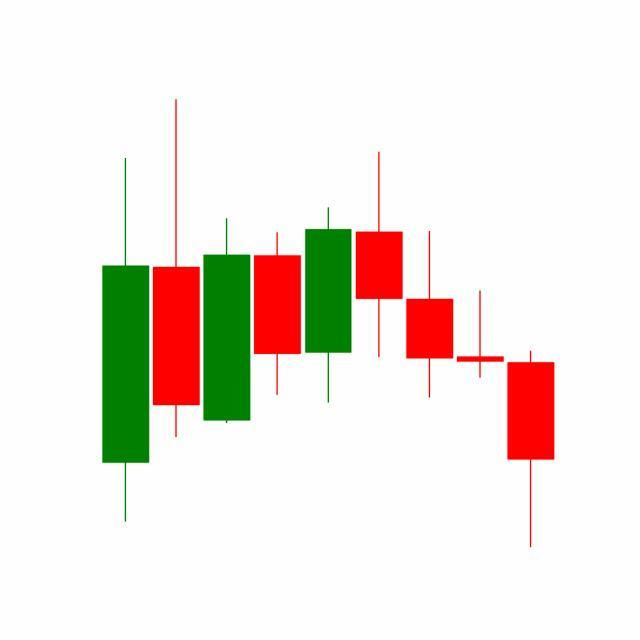Hikkake Pattern: (302, 147, 555, 548)
